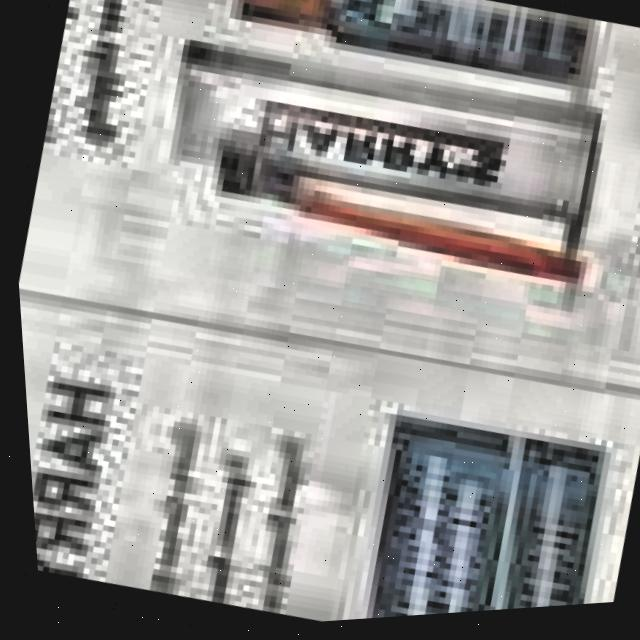paper: (15, 0, 640, 625)
